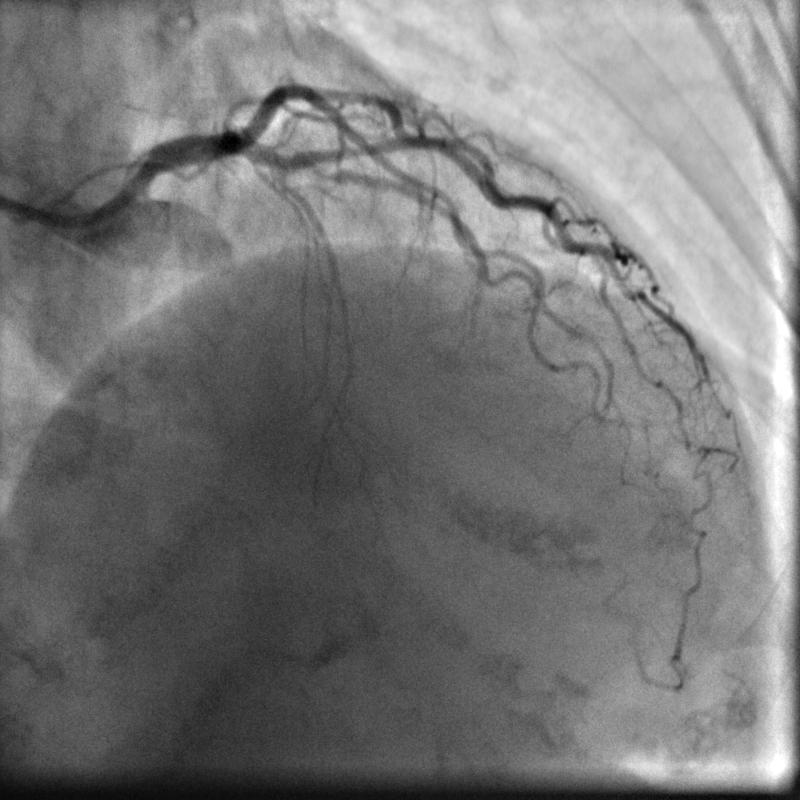Stenosis: (313, 162, 347, 182)
